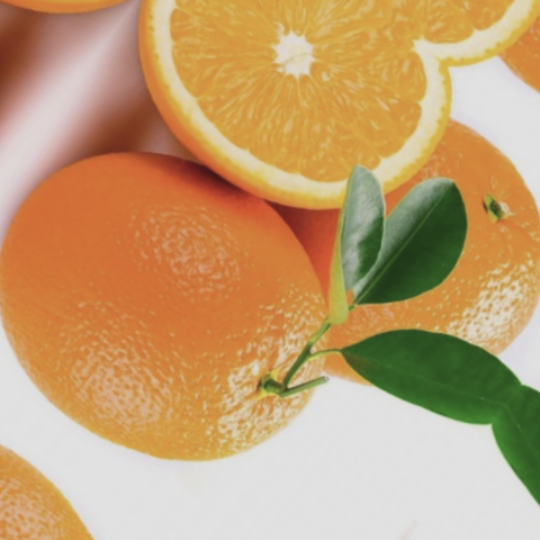orange: (0, 59, 431, 540), (158, 27, 540, 481)
